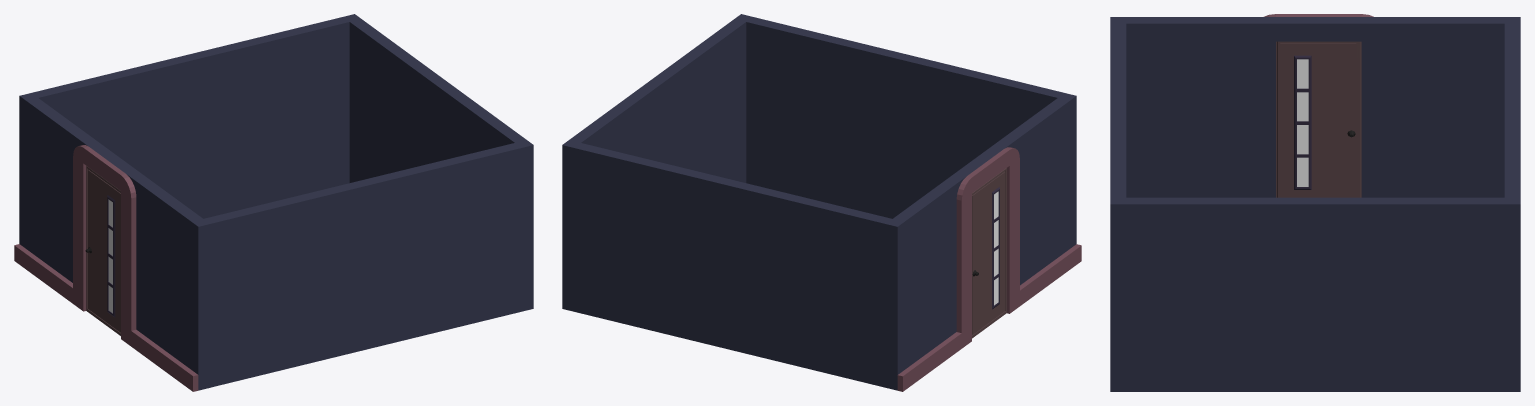
The model's file is Room (2).fbx.
3 views of the same model, side by side, from view 1: azimuth 30°, elevation 25°; view 2: azimuth 150°, elevation 25°; view 3: azimuth 270°, elevation 25° (orthographic). The views are drawn at different scales.
Visible parts, largest first — view 1: Cube.013, Cube.012, Door_6; view 2: Cube.013, Cube.012, Door_6; view 3: Cube.013, Door_6, Cube.012.
Part boxes in pixels (x1,y1,x2,y2): Cube.013: (19,14,533,390); Cube.012: (14,143,208,391); Door_6: (85,166,120,335); Cube.013: (562,14,1076,387); Cube.012: (885,146,1081,391); Door_6: (972,168,1006,338); Cube.013: (1110,17,1520,391); Door_6: (1276,41,1361,197); Cube.012: (1126,14,1504,197).
Size of the model in its own units: 4.59 by 2.1 by 4.16.
